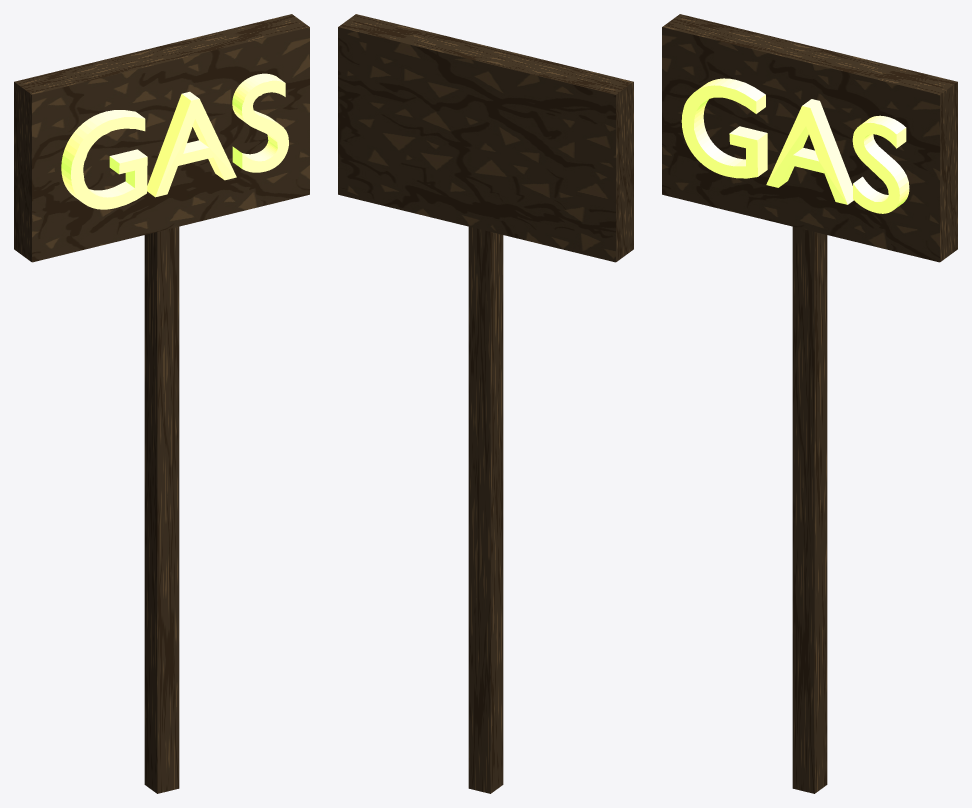
The model's file is gas_sign_1.glb.
The picture shows the model from 3 angles, left to right: view 1: azimuth 30°, elevation 25°; view 2: azimuth 150°, elevation 25°; view 3: azimuth 330°, elevation 25°; orthographic projection.
Parts seen in each view (by area): view 1: Cube; view 2: Cube; view 3: Cube.
Boxes of the visible parts, box(x1,y1,x2,y2) form: Cube: box(14, 14, 309, 793); Cube: box(338, 14, 633, 793); Cube: box(662, 14, 957, 793).
Bounding box in the file's own units: 2.27 × 5.72 × 0.397.
2 materials, 1 textured.
